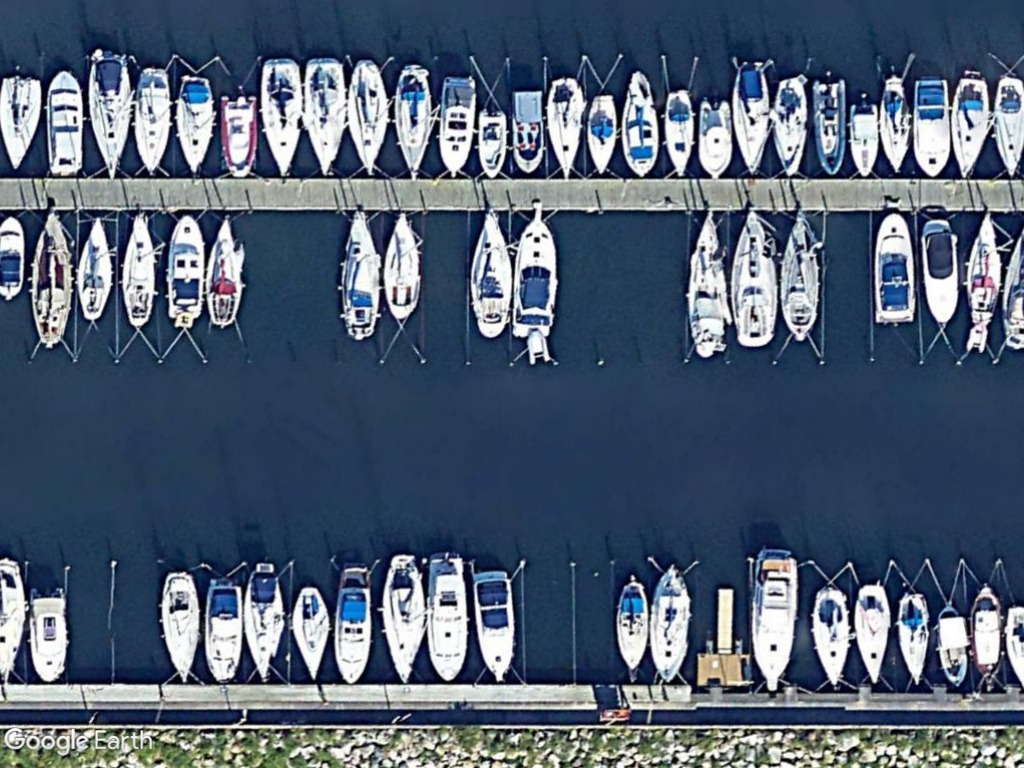boat: (744, 549, 803, 694), (681, 205, 733, 361), (728, 203, 782, 353), (82, 44, 139, 182), (377, 552, 431, 689), (334, 205, 385, 343), (772, 207, 822, 347), (463, 207, 514, 343), (254, 53, 307, 182), (510, 207, 560, 343), (28, 208, 76, 347), (647, 557, 697, 686), (329, 562, 381, 686), (155, 563, 207, 686), (299, 51, 347, 184), (869, 210, 922, 328), (422, 550, 469, 682), (470, 563, 520, 687), (129, 57, 177, 182), (347, 52, 391, 182), (163, 209, 210, 327), (118, 209, 162, 333), (376, 209, 424, 322), (391, 58, 434, 183), (435, 69, 483, 180), (616, 66, 663, 179), (172, 70, 221, 178), (917, 212, 962, 329), (244, 561, 287, 683), (847, 577, 893, 691), (0, 69, 49, 176), (201, 573, 247, 686), (73, 212, 118, 327), (729, 57, 772, 177), (286, 580, 335, 685), (909, 72, 957, 179), (42, 65, 85, 182), (203, 212, 245, 331), (950, 69, 994, 180), (804, 74, 850, 179), (874, 69, 917, 179), (25, 589, 73, 686), (546, 72, 589, 179), (964, 210, 1002, 328), (768, 71, 809, 180), (811, 584, 853, 689), (609, 578, 653, 678), (893, 588, 935, 692), (219, 89, 264, 183), (989, 72, 1024, 183), (693, 94, 736, 182), (507, 87, 548, 176), (661, 84, 699, 180), (581, 89, 621, 180), (843, 97, 882, 179), (0, 209, 33, 304), (476, 106, 512, 181)
